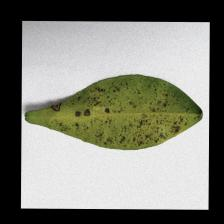canker: (41, 85, 186, 149)
